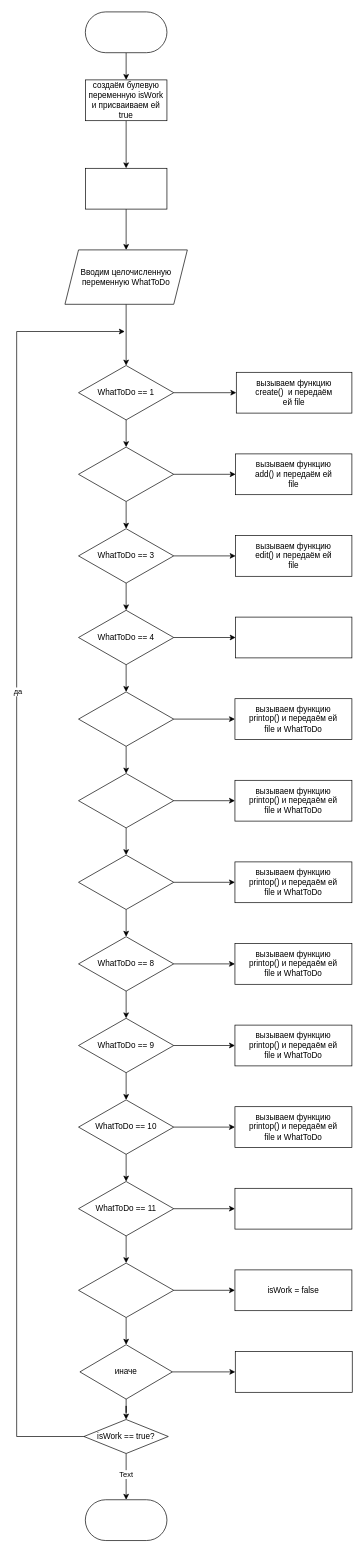
Some shapes in this 364 by 1552 pixel diagram are drawn without their labels. Here are the shapes that lost their labels. From the top down, the centre of each, then its label:
At [126,32]: "Начало".
At [126,188]: "создаём ссылку на файл file".
At [126,474]: "WhatToDo == 2".
At [293,637]: "вызываем функцию delEl() и передаём ей file".
At [126,718]: "WhatToDo == 5".
At [126,800]: "WhatToDo == 6".
At [126,882]: "WhatToDo == 7".
At [293,1208]: "вызываем функцию dietprint() и передаём ей file".
At [126,1290]: "WhatToDo == 12".
At [293,1371]: "вызываем функцию printMessage()".
At [126,1520]: "Конец".
